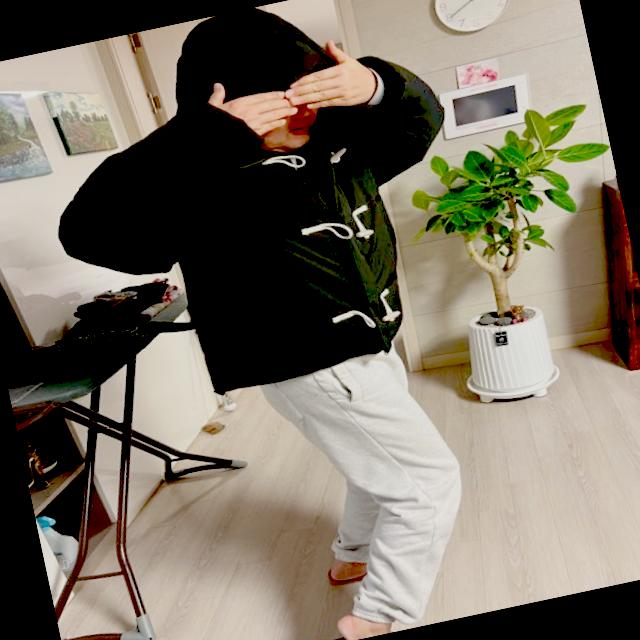padding: (22, 0, 495, 423)
trainingpants: (261, 333, 486, 640)
